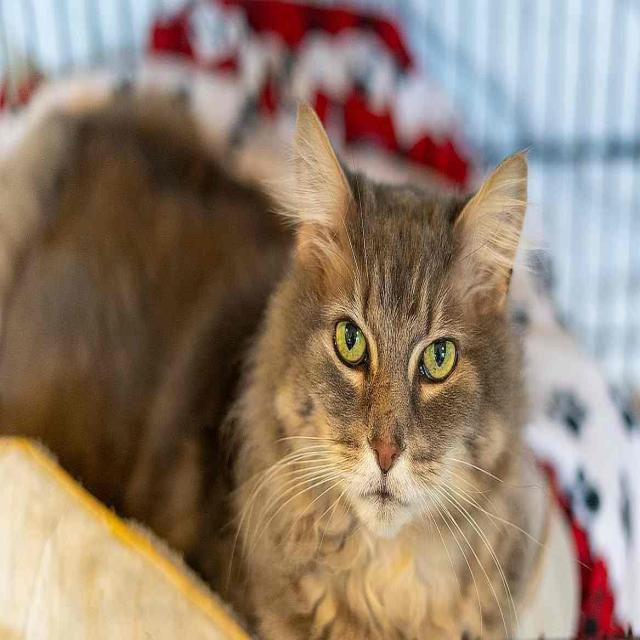domestic_long_hair_cat: (262, 80, 536, 611)
